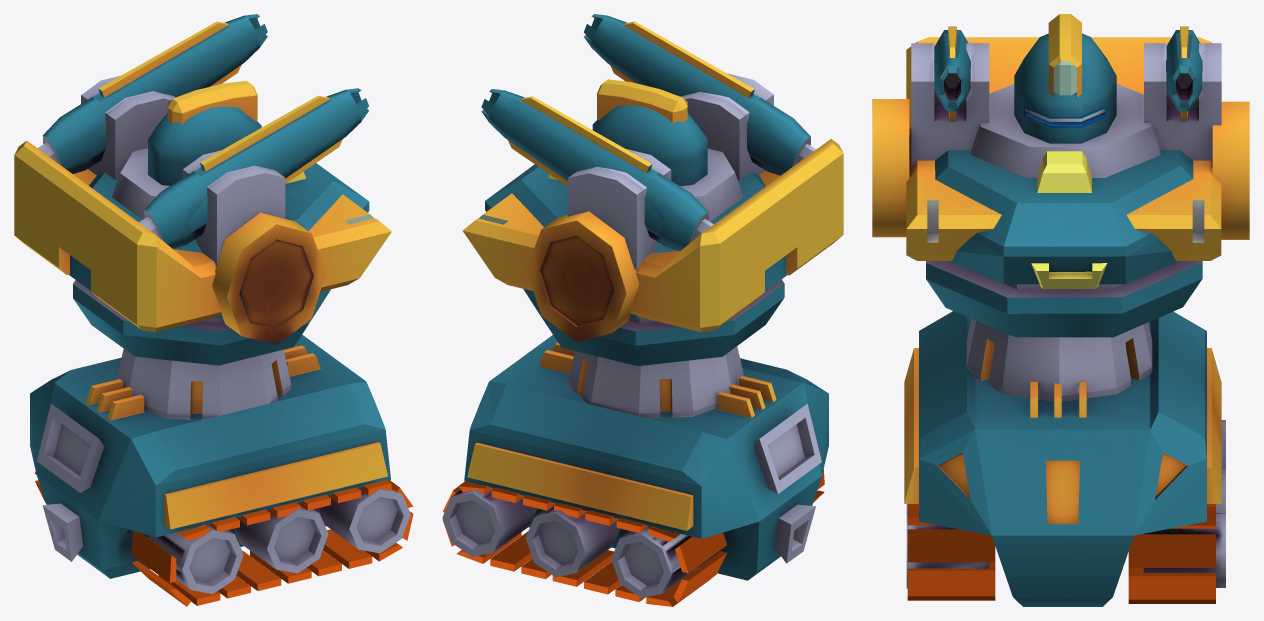
File: Player_Idle18.obj
3 renders of one model, left to right at view 1: azimuth 30°, elevation 25°; view 2: azimuth 150°, elevation 25°; view 3: azimuth 270°, elevation 25°, orthographic. The views are drawn at different scales.
Parts seen in each view (by area): view 1: Object004, Object008, Object014, Box009, Box017; view 2: Object004, Object008, Object014, Box009, Box016; view 3: Object004, Object008, Box017, Box016, Object014, Box009.
Part boxes in pixels (x1,y1,x2,y2): Object004: (14, 75, 391, 365); Object008: (30, 334, 390, 578); Object014: (37, 14, 368, 248); Box009: (148, 489, 410, 593); Box017: (131, 480, 413, 606); Object004: (462, 73, 843, 366); Object008: (464, 335, 828, 580); Object014: (481, 14, 815, 250); Box009: (442, 488, 698, 597); Box016: (442, 481, 726, 606); Object004: (872, 14, 1249, 337); Object008: (904, 311, 1221, 606); Box017: (907, 504, 995, 600); Box016: (1128, 504, 1215, 603); Object014: (934, 26, 1202, 119); Box009: (906, 420, 1225, 588).
Bounding box in the file's own units: 54.79 × 80.95 × 52.49.
Materials: 2 (1 with a texture image).
